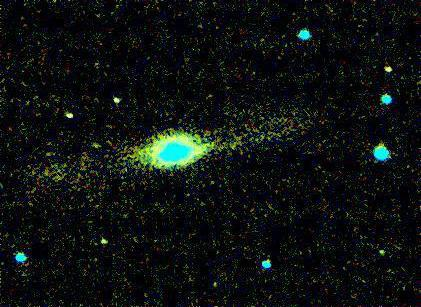star: (81, 133, 111, 163)
